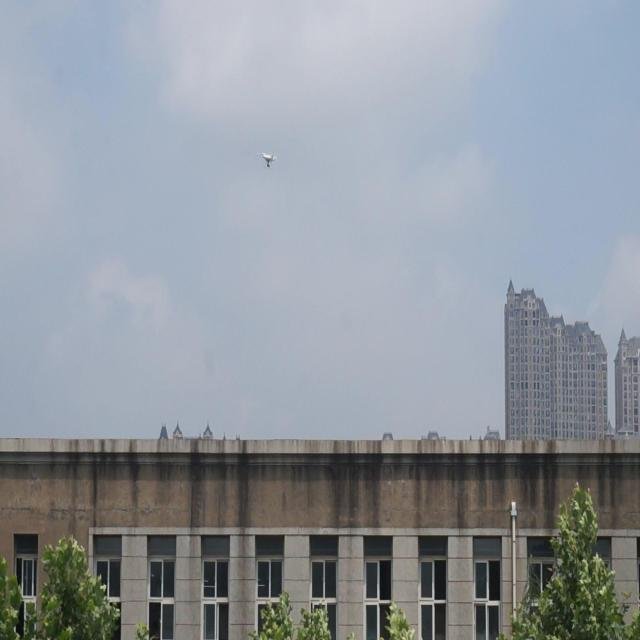drone: (258, 147, 278, 171)
